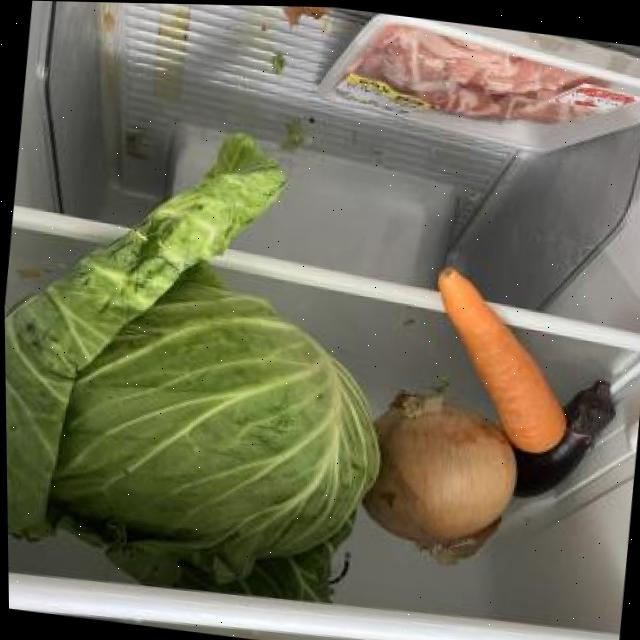Wet: (1, 99, 418, 611), (344, 376, 530, 576), (418, 260, 585, 456), (506, 362, 622, 507)
